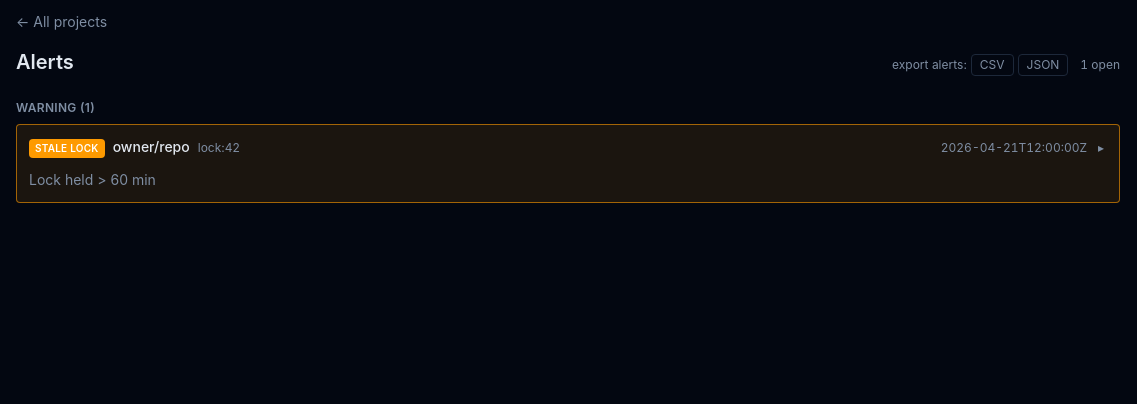
Alerts page › starts collapsed and expands on click
The image size is (1137, 404).
Step 1. Click the button with aria-label "toggle stale_lock" → (67, 148), box [29,138,1104,158]
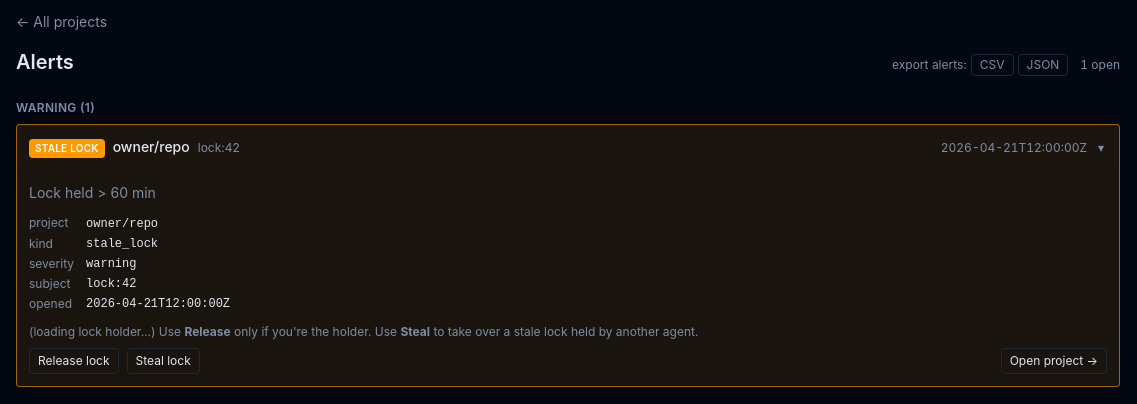
Expected: the button with aria-label "toggle stale_lock" is expanded, [29,138,1104,158]
Expected: the button "Release lock" is shown, [29,348,119,374]
